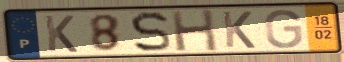8: (87, 13, 123, 53)
G: (263, 8, 305, 50)
H: (169, 8, 221, 53)
K: (42, 14, 80, 54), (220, 10, 257, 50)
S: (128, 10, 173, 54)
